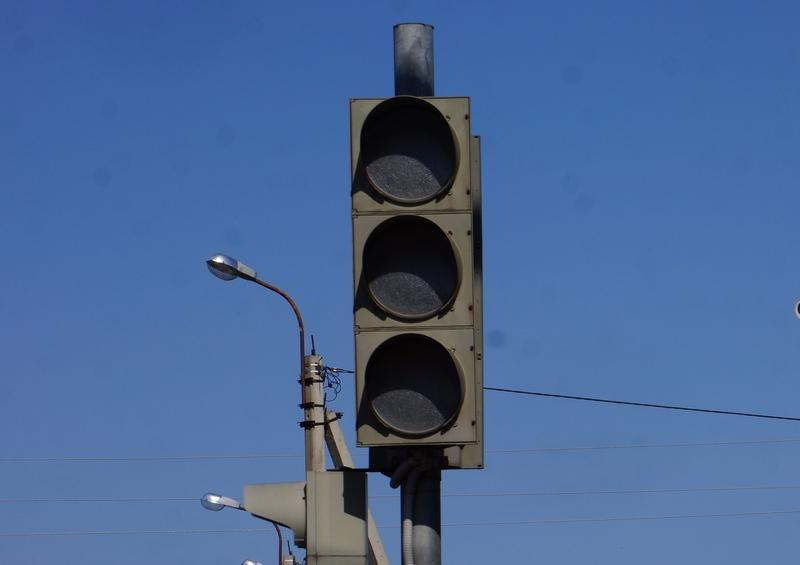off traffic light: (351, 95, 482, 466)
